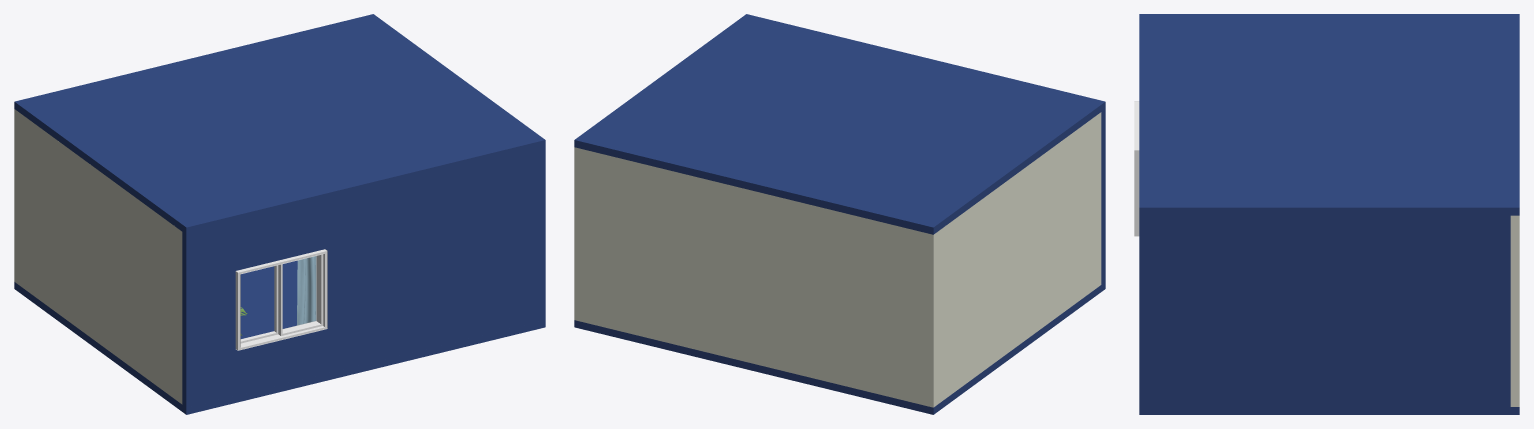
Rendered from scene_colored-transformed.glb.
3 views of the same model, side by side, from view 1: azimuth 30°, elevation 25°; view 2: azimuth 150°, elevation 25°; view 3: azimuth 270°, elevation 25° (orthographic). The views are drawn at different scales.
Visible parts, largest first — view 1: Plane, Wall, Wall.001, Plane.001, WindowFrame, Curtain, WindowPane_R, Wall.002, WindowPane_L; view 2: Plane, Wall.002, Wall.001, Plane.001, Wall; view 3: Plane, Wall.003, Plane.001, Wall, Wall.002, WindowFrame.
Boxes of the visible parts, x1,y1,x2,y2 form: Plane: (14, 14, 545, 234); Wall: (182, 147, 545, 407); Wall.001: (18, 112, 182, 404); Plane.001: (14, 260, 545, 414); WindowFrame: (235, 249, 327, 350); Curtain: (297, 256, 316, 325); WindowPane_R: (278, 254, 323, 335); Wall.002: (14, 109, 18, 284); WindowPane_L: (240, 265, 278, 343); Plane: (574, 14, 1105, 234); Wall.002: (574, 147, 937, 407); Wall.001: (937, 112, 1101, 404); Plane.001: (574, 282, 1105, 414); Wall: (1101, 109, 1105, 284); Plane: (1139, 14, 1519, 215); Wall.003: (1148, 215, 1510, 406); Plane.001: (1139, 407, 1519, 414); Wall: (1139, 215, 1148, 406); Wall.002: (1510, 215, 1519, 406); WindowFrame: (1134, 101, 1139, 236).
Bounding box in the file's own units: 10 × 4.99 × 8.41.
